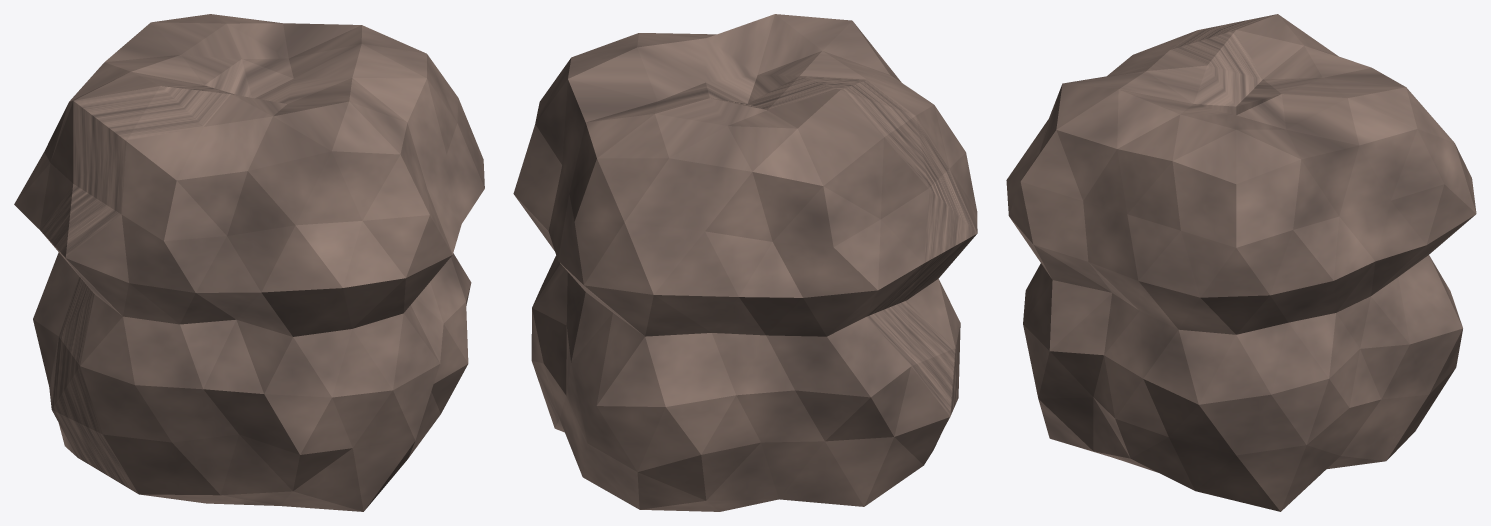
File: asteroid.glb
3 renders of one model, left to right at view 1: azimuth 30°, elevation 25°; view 2: azimuth 150°, elevation 25°; view 3: azimuth 270°, elevation 25°, orthographic. The views are drawn at different scales.
Visible parts, largest first — view 1: Asteroid; view 2: Asteroid; view 3: Asteroid.
Part boxes in pixels (x1,y1,x2,y2): Asteroid: (14, 14, 484, 511); Asteroid: (513, 14, 977, 511); Asteroid: (1006, 14, 1476, 511).
Size of the model in its own units: 2.08 by 1.88 by 2.12.
Materials: 1 (1 with a texture image).
